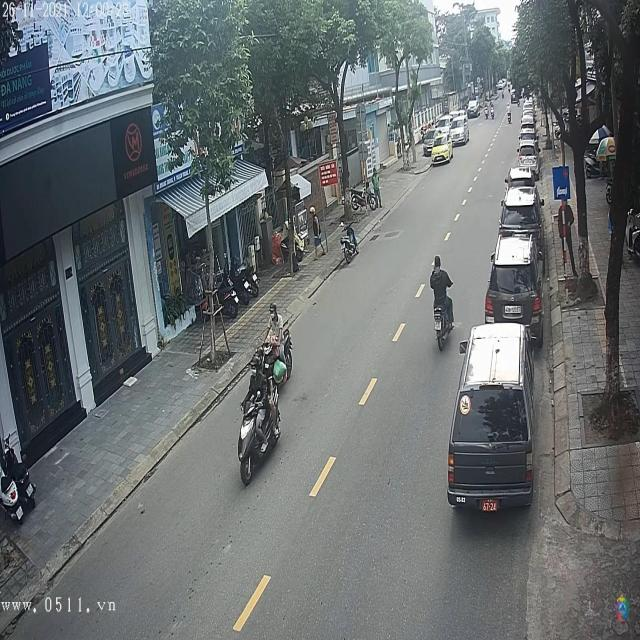car: (450, 323, 534, 512), (485, 234, 543, 333), (501, 185, 541, 227), (516, 131, 537, 150), (468, 99, 481, 117)
motorcycle: (236, 386, 283, 486), (432, 288, 455, 348)
